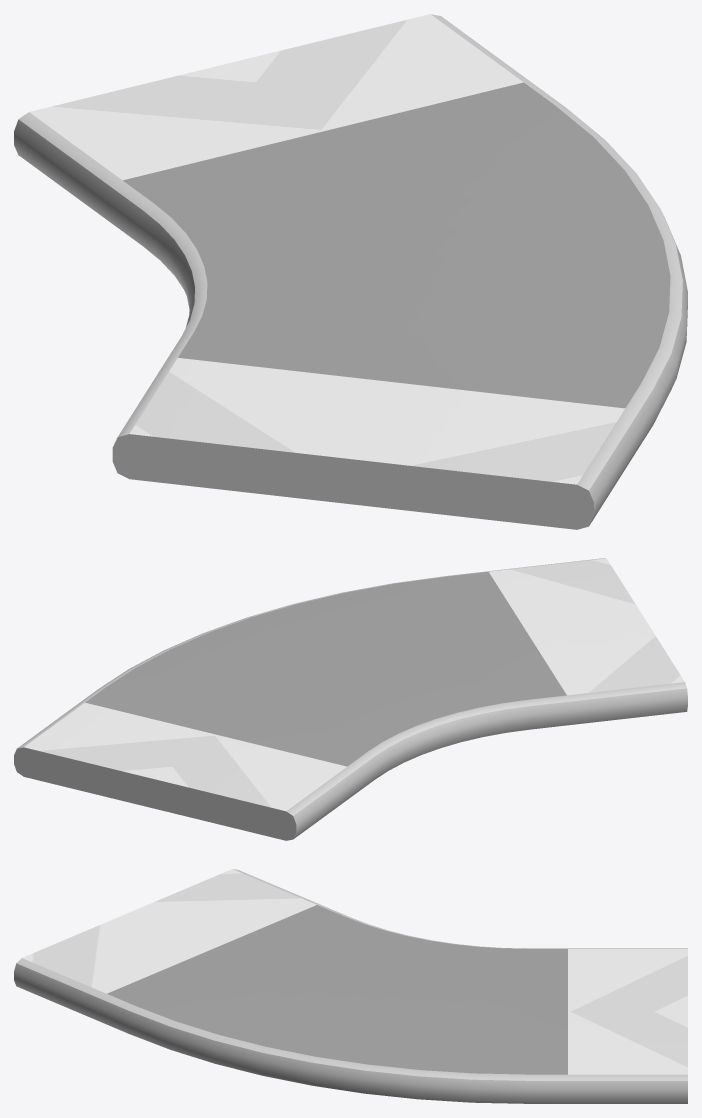
File: floor_right_45.fbx
The picture shows the model from 3 angles, top to bottom: view 1: azimuth 30°, elevation 25°; view 2: azimuth 150°, elevation 25°; view 3: azimuth 270°, elevation 25°; orthographic projection. The views are drawn at different scales.
Visible parts, largest first — view 1: floor_right_45; view 2: floor_right_45; view 3: floor_right_45.
Part boxes in pixels (bbox=[...]): floor_right_45: bbox=[14, 14, 687, 529]; floor_right_45: bbox=[14, 558, 687, 840]; floor_right_45: bbox=[14, 869, 687, 1103].
Size of the model in its own units: 790 by 50 by 1054.
3 materials, 1 textured.
